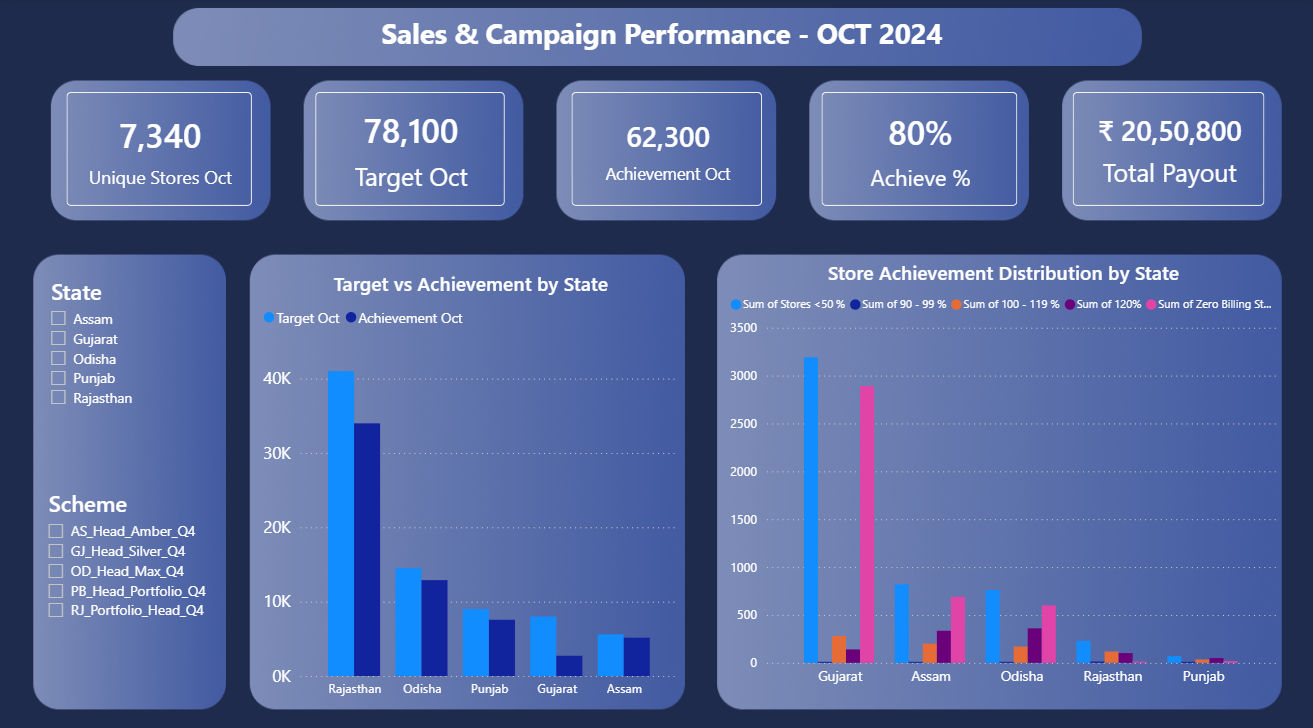

Layout of this report page (visuals, bound fields, positions):
{"tool":"powerbi","page":{"name":"Page 1","canvas":[1280,720],"ordinal":0},"visuals":[{"type":"cardVisual","fields":{"Data":["Payout_Data.Unique Stores Oct"]},"box":[65.1,86.9,189.4,120.6],"z":0},{"type":"cardVisual","fields":{"Data":["Payout_Data.Target Oct"]},"box":[305.2,86.9,193,120.6],"z":1000},{"type":"cardVisual","fields":{"Data":["Payout_Data.Achievement Oct"]},"box":[552.5,86.9,194.2,120.6],"z":2000},{"type":"cardVisual","fields":{"Data":["Payout_Data.Total Payout"]},"box":[1036.3,86.9,195.4,120.6],"z":3000},{"type":"cardVisual","fields":{"Data":["Payout_Data.Achievement %%"]},"box":[793.8,86.9,199.1,120.6],"z":4000},{"type":"textbox","box":[178.1,11.8,932.3,55.4],"z":5000},{"type":"clusteredColumnChart","title":"Target vs Achievement by State","fields":{"Category":["Payout_Data.State"],"Y":["Payout_Data.Target Oct","Payout_Data.Achievement Oct"]},"box":[254.6,264.2,411.4,421],"z":6000},{"type":"clusteredColumnChart","title":"Store Achievement Distribution by State","fields":{"Category":["Payout_Data.State"],"Y":["Sum(Payout_Data.Stores <50 %)","Sum(Payout_Data.90 - 99 %)","Sum(Payout_Data.100 - 119 %)","Sum(Payout_Data.120%)","Sum(Payout_Data.Zero Billing Stores)"]},"box":[705.8,253.7,537.2,420.9],"z":7000},{"type":"slicer","fields":{"Values":["Payout_Data.State"]},"box":[42.5,263.6,174.3,194.2],"z":10000},{"type":"slicer","fields":{"Values":["Payout_Data.Scheme"]},"box":[39.7,469.1,178.6,205.5],"z":11000}]}

Visuals, with their boxes in screenshot pixels (x1, y1, x2, y2), scaled from the page's 1280x720 canvas onto the 1313x728 screenshot:
cardVisual - Payout_Data.Unique Stores Oct: bbox(67, 88, 261, 210)
cardVisual - Payout_Data.Target Oct: bbox(313, 88, 511, 210)
cardVisual - Payout_Data.Achievement Oct: bbox(567, 88, 766, 210)
cardVisual - Payout_Data.Total Payout: bbox(1063, 88, 1263, 210)
cardVisual - Payout_Data.Achievement %%: bbox(814, 88, 1018, 210)
textbox: bbox(183, 12, 1139, 68)
"Target vs Achievement by State" clusteredColumnChart: bbox(261, 267, 683, 693)
"Store Achievement Distribution by State" clusteredColumnChart: bbox(724, 257, 1275, 682)
slicer - Payout_Data.State: bbox(44, 267, 222, 463)
slicer - Payout_Data.Scheme: bbox(41, 474, 224, 682)
